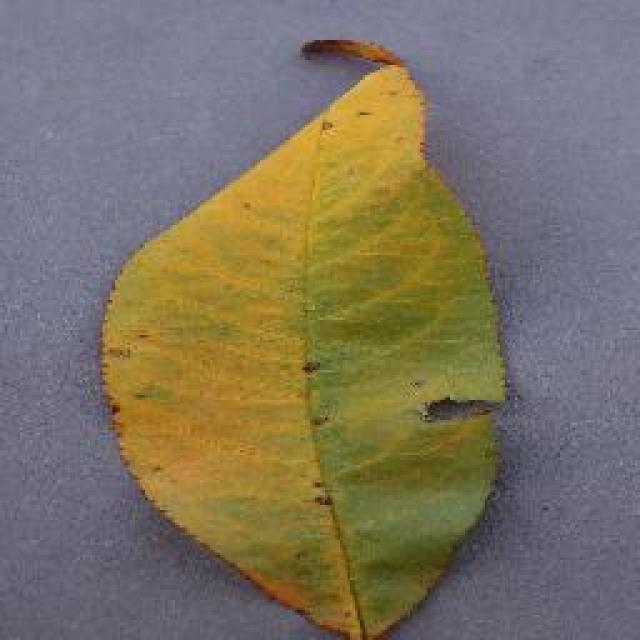Peach_Bacterial_Spot: (205, 163, 510, 572)
